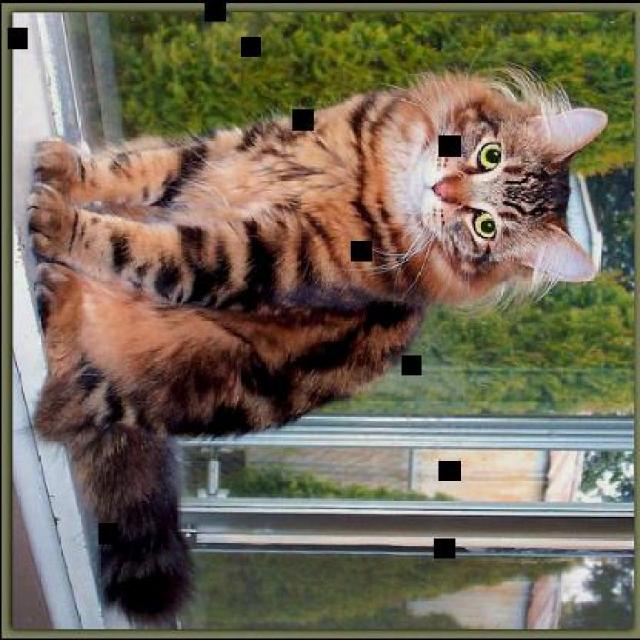unauthorized: (26, 62, 608, 628), (25, 61, 608, 317)
